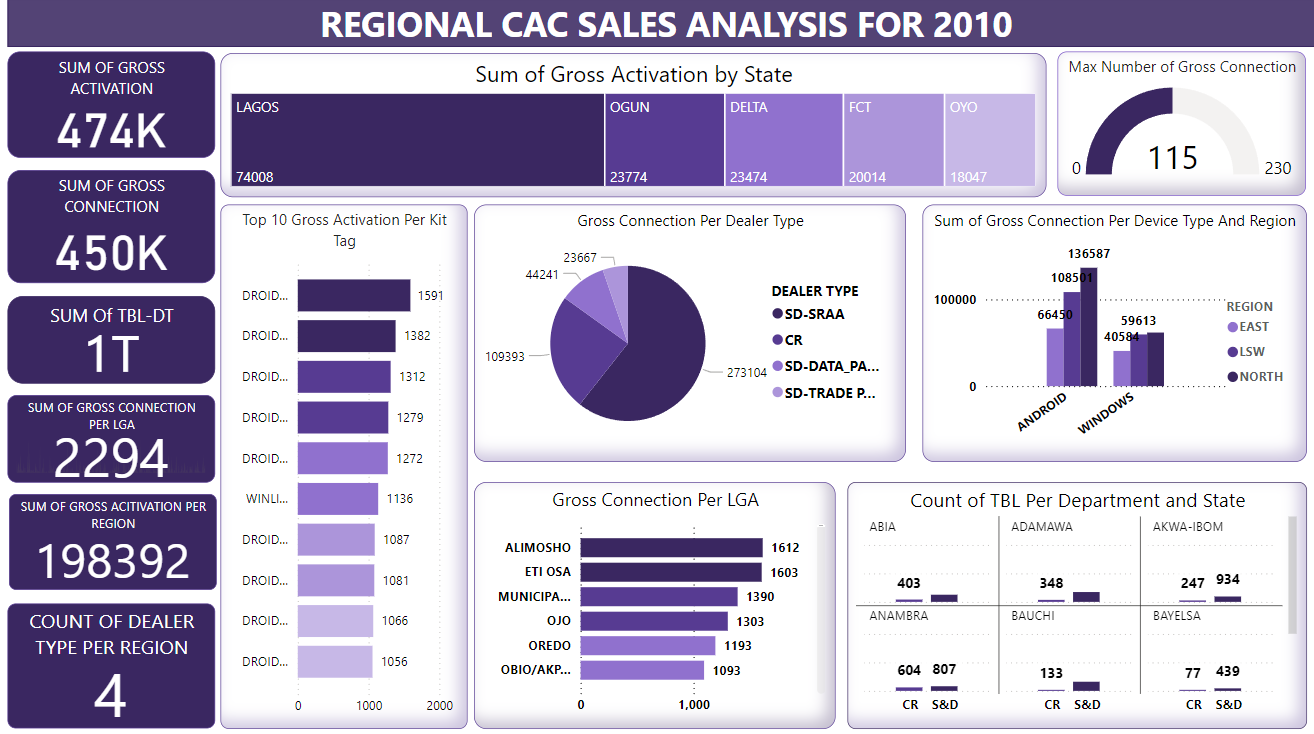

What the dashboard file says about the page in this screenshot:
{"tool":"powerbi","page":{"name":"Page 1","canvas":[1280,720],"ordinal":0},"visuals":[{"type":"shape","box":[9.9,0,1268.9,46.4],"z":0},{"type":"card","title":"SUM OF GROSS ACTIVATION","fields":{"Values":["Sum(MTD 202108.GROSS_ACTIVATION)"]},"box":[9.9,51.4,200.4,102.7],"z":1000},{"type":"card","title":"SUM OF GROSS CONNECTION","fields":{"Values":["Sum(MTD 202108.GROSS_CONNECTION)"]},"box":[9.9,165.6,200.4,109.3],"z":2000},{"type":"clusteredColumnChart","title":"Sum of Gross Connection Per Device Type And Region","fields":{"Y":["Sum(MTD 202108.GROSS_ACTIVATION)"],"Category":["MTD 202108.DEVICE TYPE"],"Series":["MTD 202108.REGION"]},"box":[894.5,198.8,371.1,248.5],"z":3000},{"type":"clusteredBarChart","title":"Gross Connection Per LGA","fields":{"Category":["MTD 202108.LGA"],"Y":["CountNonNull(MTD 202108.GROSS_CONNECTION)"]},"box":[460.5,467.1,349.5,238.5],"z":4000},{"type":"pieChart","title":"Gross Connection Per Dealer Type","fields":{"Category":["MTD 202108.DEALER TYPE"],"Y":["Sum(MTD 202108.GROSS_CONNECTION)"]},"box":[460.5,198.8,417.4,248.5],"z":5000},{"type":"lineStackedColumnComboChart","title":"Count of TBL Per Department and State","fields":{"Y":["Sum(MTD 202108.tbl_dt)"],"Category":["MTD 202108.DEPARTMENT"],"Rows":["MTD 202108.STATE"]},"box":[821.6,467.1,443.9,238.5],"z":6000},{"type":"card","title":"SUM Of TBL-DT","fields":{"Values":["Sum(MTD 202108.tbl_dt)"]},"box":[9.9,286.6,200.4,84.5],"z":7000},{"type":"treemap","title":"Sum of Gross Activation by State","fields":{"Values":["Sum(MTD 202108.GROSS_ACTIVATION)"],"Group":["MTD 202108.STATE"]},"box":[215.9,51.6,797.7,139.2],"z":8000},{"type":"clusteredBarChart","title":"Top 10 Gross Activation Per Kit Tag","fields":{"Category":["MTD 202108.KIT-TAG"],"Y":["Sum(MTD 202108.GROSS_ACTIVATION)"]},"box":[215.3,198.8,238.5,506.9],"z":9000},{"type":"gauge","title":"Max Number of Gross Connection","fields":{"Y":["Max(MTD 202108.GROSS_CONNECTION)"]},"box":[1025.4,51.4,240.2,139.1],"z":10000},{"type":"kpi","title":"SUM OF GROSS CONNECTION PER LGA","fields":{"TrendLine":["MTD 202108.LGA"],"Indicator":["Sum(MTD 202108.GROSS_CONNECTION)"]},"box":[9.9,382.6,200.4,84.5],"z":11000},{"type":"kpi","title":"SUM OF GROSS ACITIVATION PER REGION","fields":{"Indicator":["Sum(MTD 202108.GROSS_ACTIVATION)"],"TrendLine":["MTD 202108.REGION"]},"box":[11.6,478.7,200.4,92.8],"z":12000},{"type":"kpi","title":"COUNT OF DEALER TYPE PER REGION","fields":{"Indicator":["Count(MTD 202108.DEALER TYPE)"],"TrendLine":["MTD 202108.REGION"]},"box":[9.9,584.7,200.4,120.9],"z":13000}]}

Visuals, with their boxes in screenshot pixels (x1, y1, x2, y2), scaled from the page's 1280x720 canvas onto the 1314x734 screenshot:
shape: box(10, 0, 1313, 47)
"SUM OF GROSS ACTIVATION" card: box(10, 52, 216, 157)
"SUM OF GROSS CONNECTION" card: box(10, 169, 216, 280)
"Sum of Gross Connection Per Device Type And Region" clusteredColumnChart: box(918, 203, 1299, 456)
"Gross Connection Per LGA" clusteredBarChart: box(473, 476, 832, 719)
"Gross Connection Per Dealer Type" pieChart: box(473, 203, 901, 456)
"Count of TBL Per Department and State" lineStackedColumnComboChart: box(843, 476, 1299, 719)
"SUM Of TBL-DT" card: box(10, 292, 216, 378)
"Sum of Gross Activation by State" treemap: box(222, 53, 1041, 195)
"Top 10 Gross Activation Per Kit Tag" clusteredBarChart: box(221, 203, 466, 719)
"Max Number of Gross Connection" gauge: box(1053, 52, 1299, 194)
"SUM OF GROSS CONNECTION PER LGA" kpi: box(10, 390, 216, 476)
"SUM OF GROSS ACITIVATION PER REGION" kpi: box(12, 488, 218, 583)
"COUNT OF DEALER TYPE PER REGION" kpi: box(10, 596, 216, 719)
